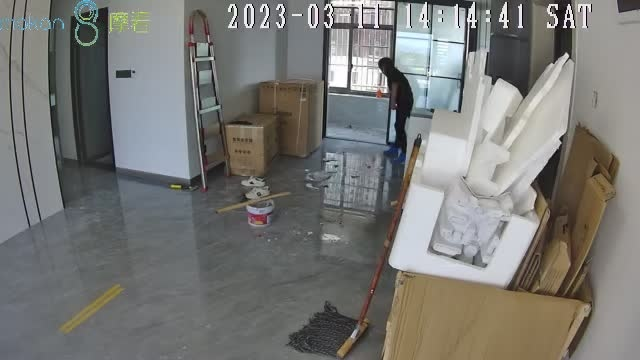people: (379, 57, 414, 161)
window: (324, 1, 464, 140)
